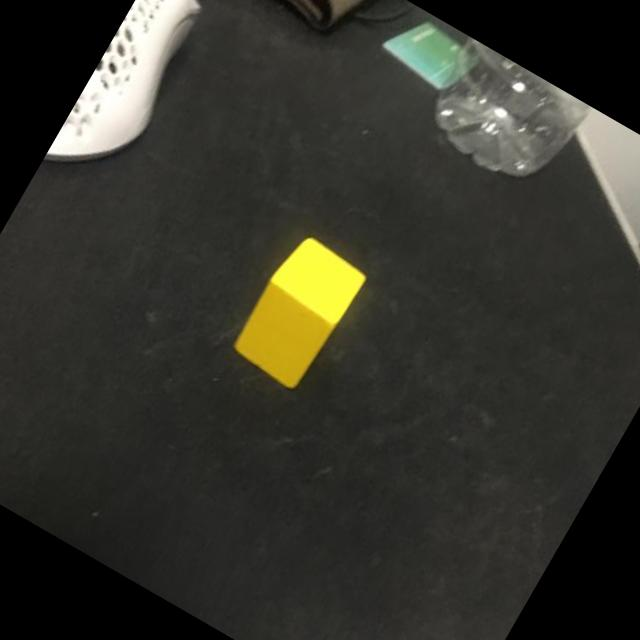yellow: (227, 230, 371, 395)
